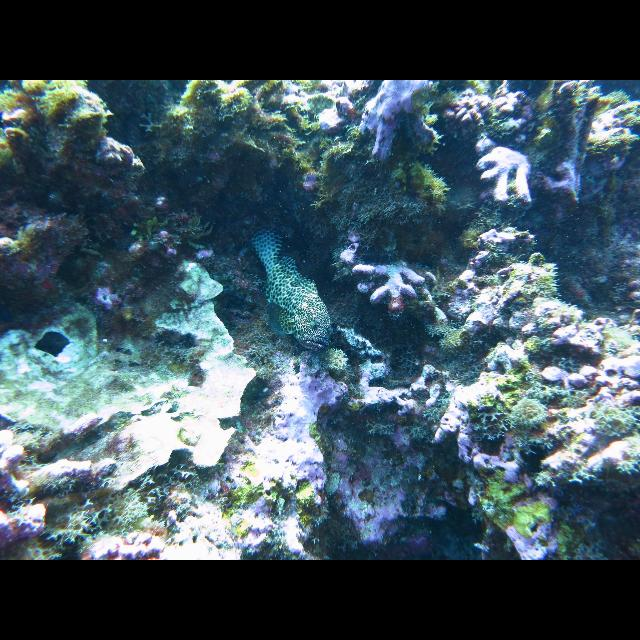Groupers: (242, 228, 352, 352)
